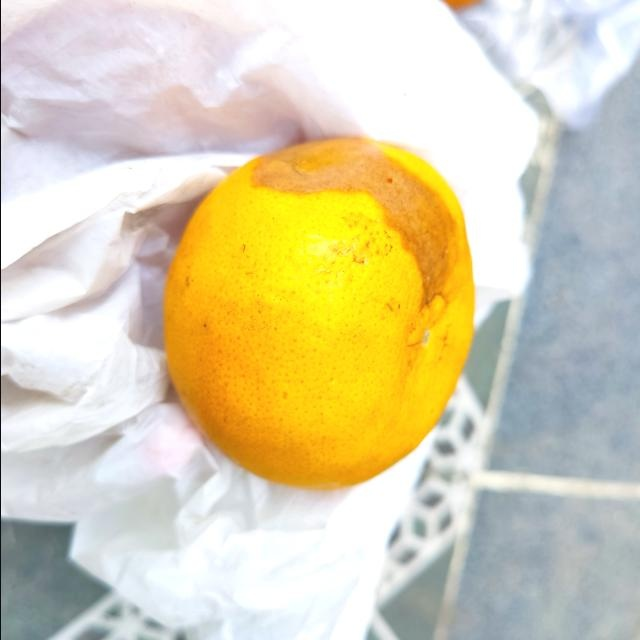agrume: (162, 135, 474, 493)
